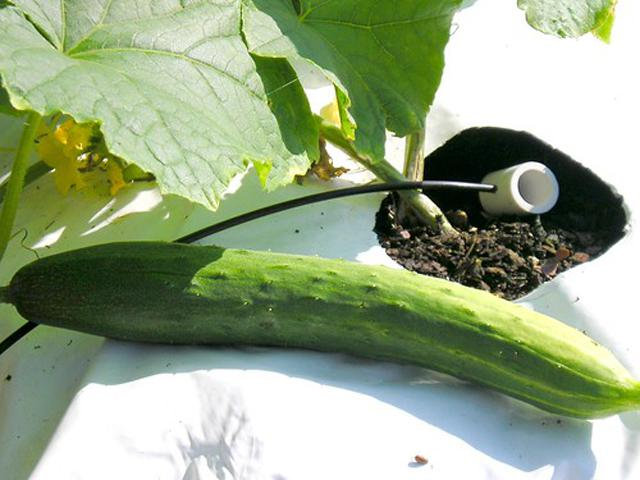cucumber: (3, 242, 639, 419)
